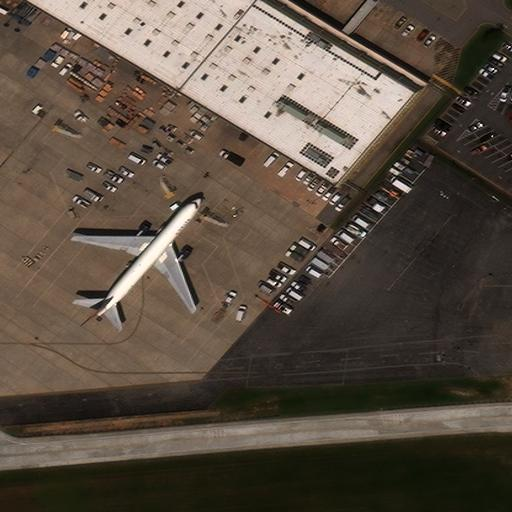Large Civil Transport: (73, 196, 202, 317)
